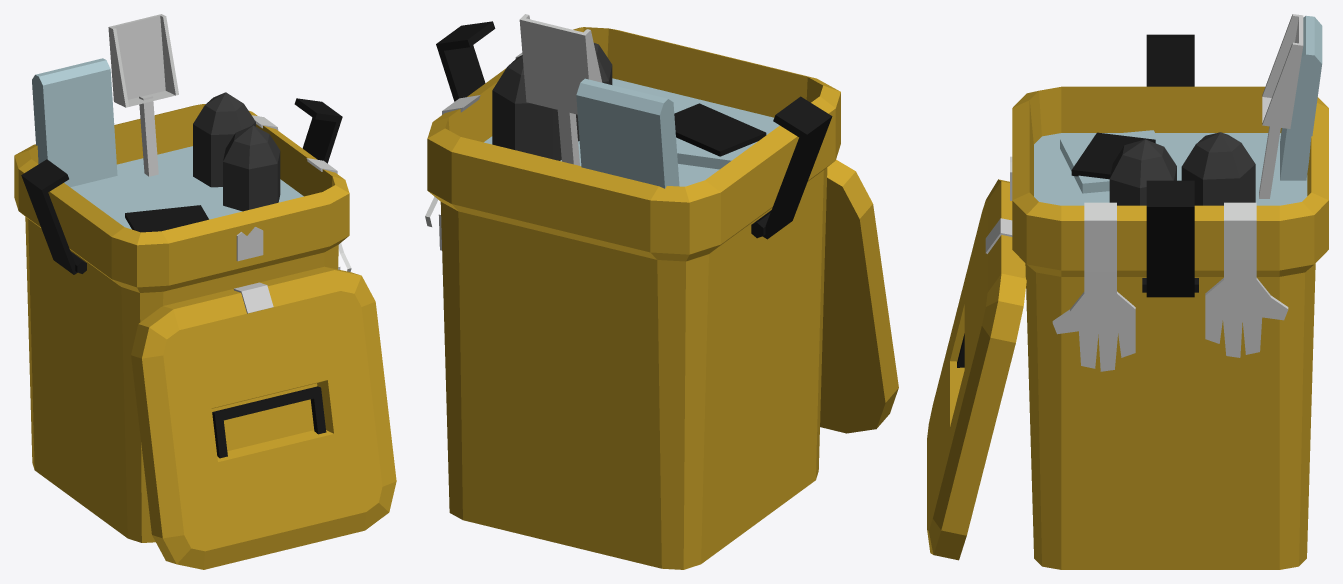
File: chemical-spill-kit-3c71d9.glb
3 views of the same model, side by side, from view 1: azimuth 30°, elevation 25°; view 2: azimuth 150°, elevation 25°; view 3: azimuth 270°, elevation 25° (orthographic). The views are drawn at different scales.
Parts seen in each view (by area): view 1: lid-slab, tub, tub-body, scoop-tray, clip-l-plate, handle-bar, clip-r-plate; view 2: tub-body, tub, lid-slab, scoop-tray, clip-l-plate, clip-r-plate; view 3: tub-body, tub, lid-slab, clip-r-plate, scoop-tray, clip-l-plate.
Boxes of the visible parts, x1,y1,x2,y2 form: lid-slab: [131, 266, 396, 569]; tub: [14, 58, 351, 292]; tub-body: [25, 217, 338, 542]; scoop-tray: [108, 14, 178, 176]; clip-l-plate: [21, 159, 77, 274]; handle-bar: [212, 386, 326, 458]; clip-r-plate: [294, 98, 342, 163]; tub-body: [440, 167, 827, 569]; tub: [425, 27, 840, 261]; lid-slab: [820, 159, 898, 433]; scoop-tray: [519, 14, 602, 165]; clip-l-plate: [763, 96, 832, 239]; clip-r-plate: [436, 21, 495, 101]; tub-body: [1025, 263, 1315, 569]; tub: [1010, 15, 1328, 371]; lid-slab: [927, 179, 1026, 560]; clip-r-plate: [1146, 180, 1194, 297]; scoop-tray: [1259, 14, 1303, 198]; clip-l-plate: [1146, 34, 1194, 86].
Size of the model in its own units: 0.3733 by 0.4939 by 0.368.
